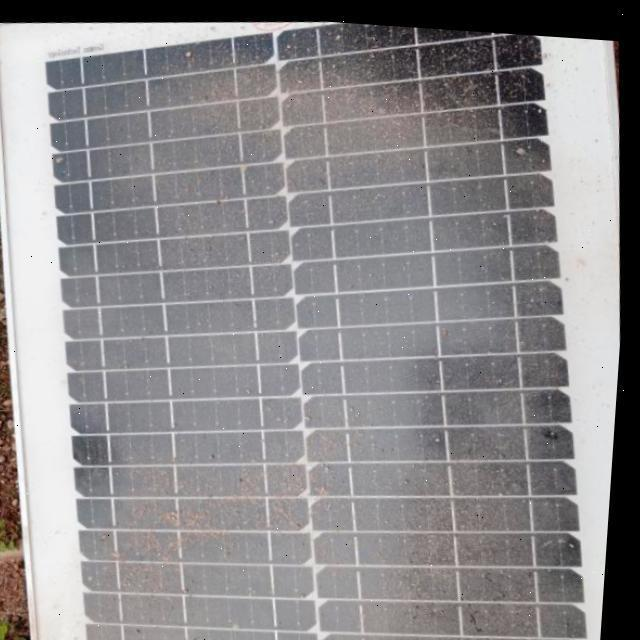Surface Contaminant: (46, 39, 591, 640)
